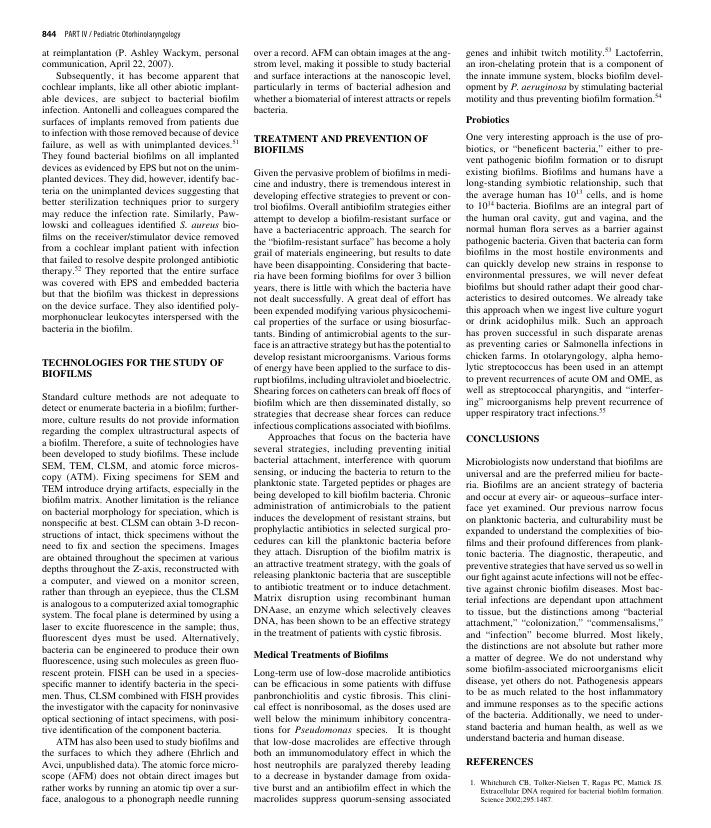header: (64, 29, 181, 40)
list: (469, 778, 664, 805)
section-heading: (40, 357, 225, 379), (253, 133, 430, 155), (465, 434, 540, 443), (465, 757, 535, 766)
sub-section-heading: (252, 650, 389, 660), (465, 114, 510, 125)
text: (252, 166, 452, 640), (40, 390, 241, 807), (39, 45, 241, 335), (465, 131, 665, 420), (464, 456, 664, 743), (252, 665, 452, 806), (251, 47, 452, 116), (464, 46, 665, 106)
